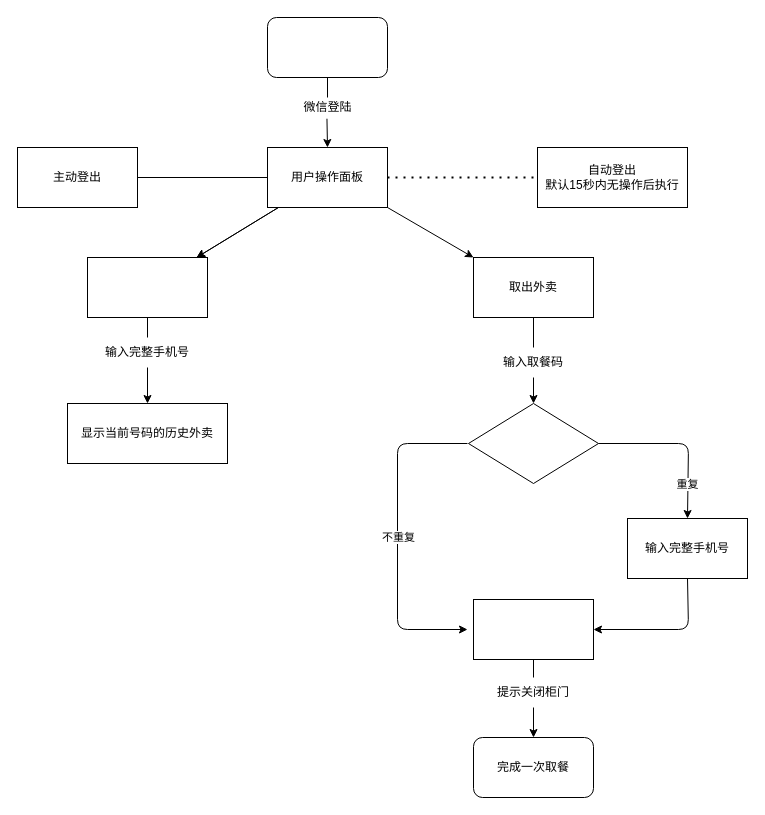
The diagram is 765 pixels wide and 815 high, and some of its shapes have lost their labels. Here are the shapes that lost their labels. From the top down, the centre of each, then its label:
pixel 327 47: 用户
pixel 147 287: 查询历史外卖
pixel 533 443: 判断是否重复
pixel 533 629: 显示一条外卖信息
